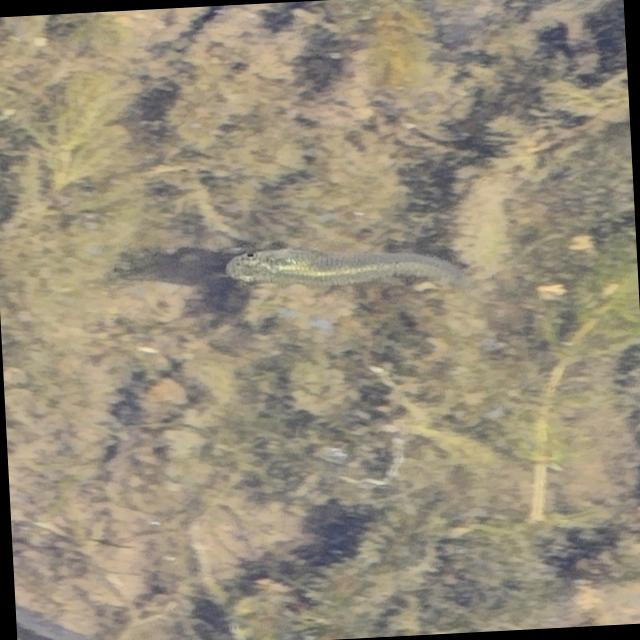Sivrisinek Baligi: (222, 235, 463, 297)
